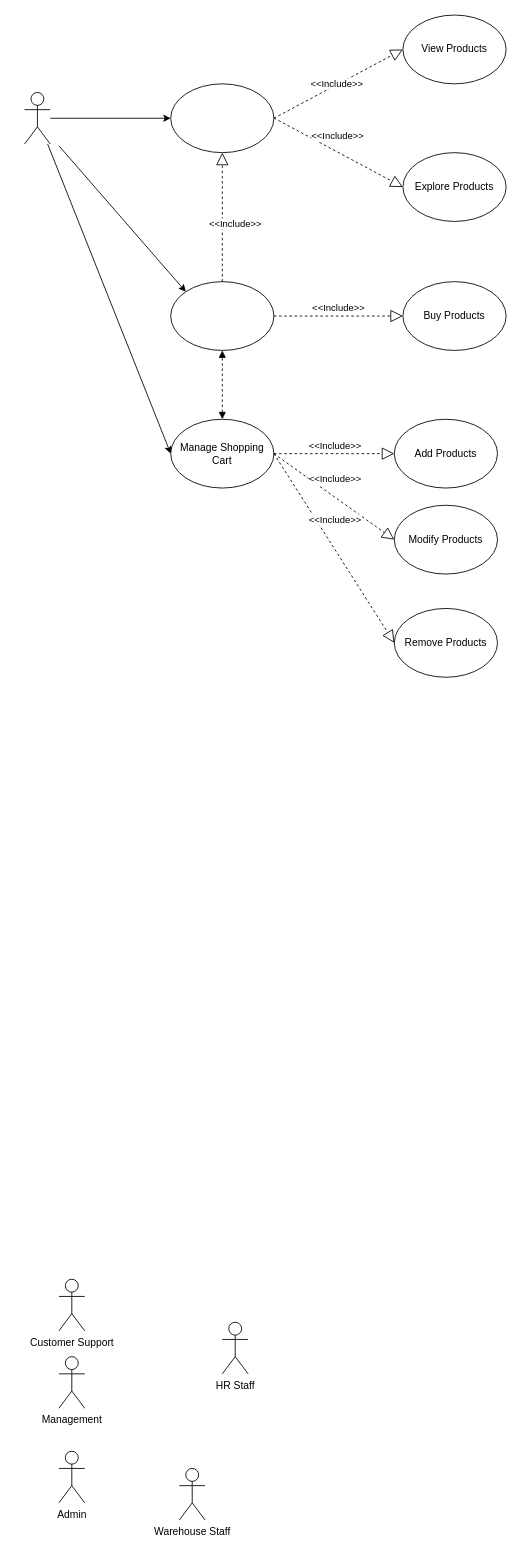
The diagram is 521 pixels wide and 1553 high, and some of its shapes have lost their labels. Here are the shapes that lost their labels. From the top down, the centre of each, then its label:
point (37, 118): Customer
point (222, 118): Browse Products
point (222, 315): Purchase Products
